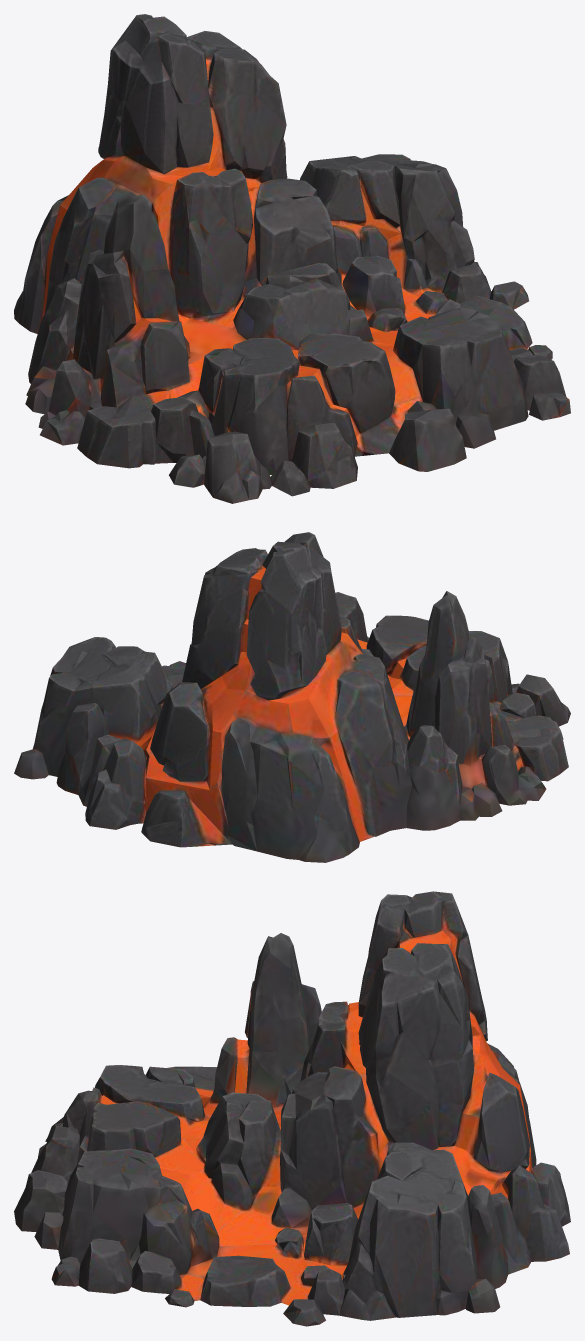
Rendered from lavarock.glb.
The picture shows the model from 3 angles, top to bottom: view 1: azimuth 30°, elevation 25°; view 2: azimuth 150°, elevation 25°; view 3: azimuth 270°, elevation 25°; orthographic projection. The views are drawn at different scales.
Visible parts, largest first — view 1: output_unwrapped; view 2: output_unwrapped; view 3: output_unwrapped.
Boxes of the visible parts, x1,y1,x2,y2 form: output_unwrapped: [14, 14, 570, 503]; output_unwrapped: [14, 532, 570, 862]; output_unwrapped: [14, 891, 570, 1326].
Bounding box in the file's own units: 1.9 × 1.1 × 1.89.
Materials: 1 (1 with a texture image).
